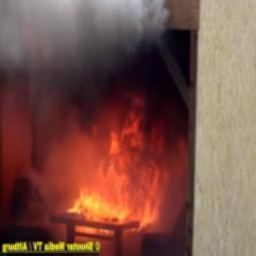fire: (33, 82, 190, 243)
